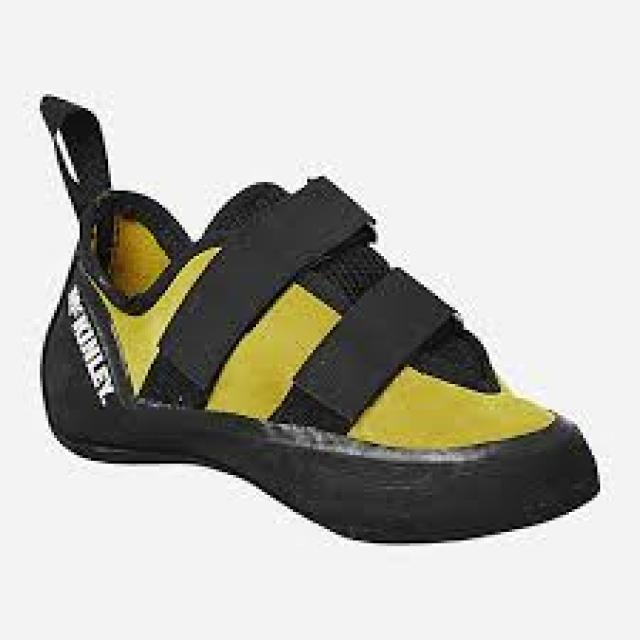climbing-shoes: (40, 88, 603, 545)
